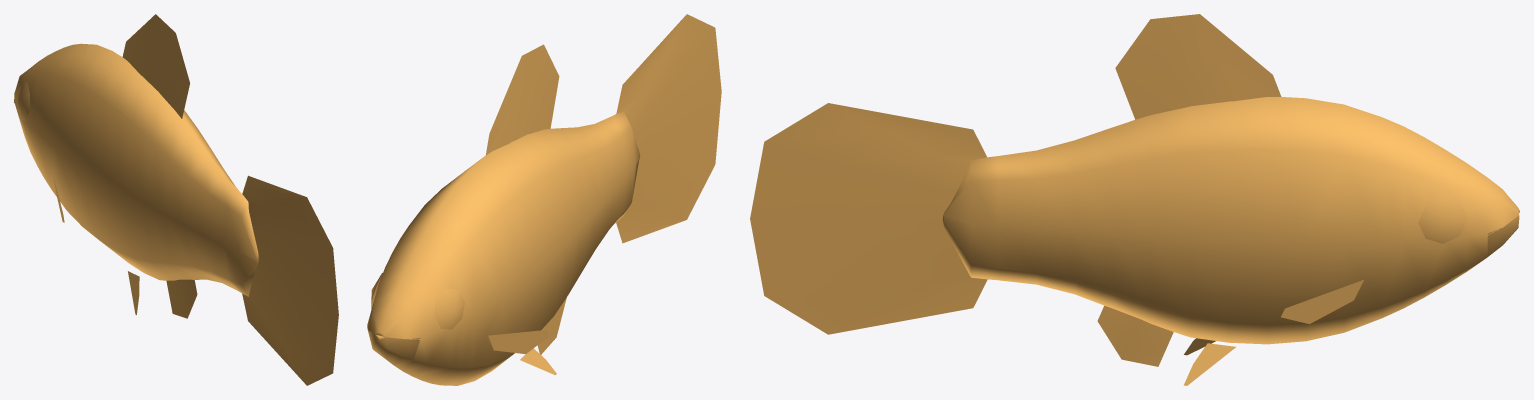
The model's file is platy_lo.glb.
3 renders of one model, left to right at view 1: azimuth 30°, elevation 25°; view 2: azimuth 150°, elevation 25°; view 3: azimuth 270°, elevation 25°, orthographic. The views are drawn at different scales.
Visible parts, largest first — view 1: platy_lo; view 2: platy_lo; view 3: platy_lo.
Part boxes in pixels (x1,y1,x2,y2): platy_lo: (14,14,338,385); platy_lo: (367,14,721,385); platy_lo: (750,14,1519,385).
Bounding box in the file's own units: 0.0107 × 0.0256 × 0.05.
